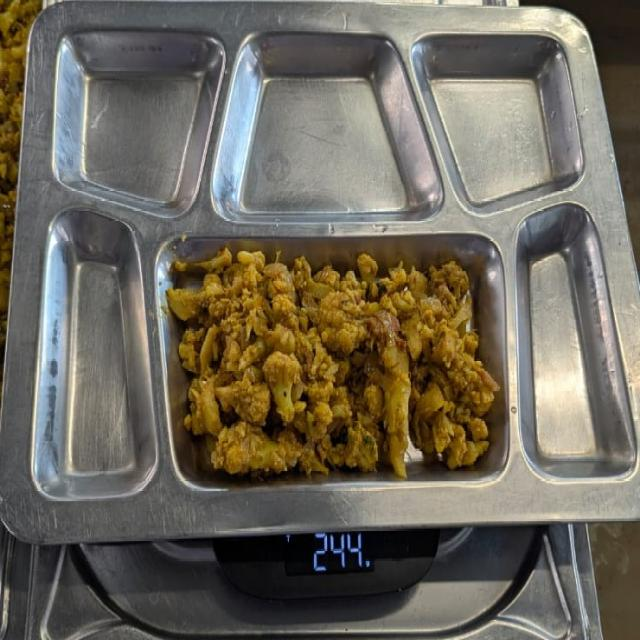Gobhi Sabji: (165, 238, 498, 480)
